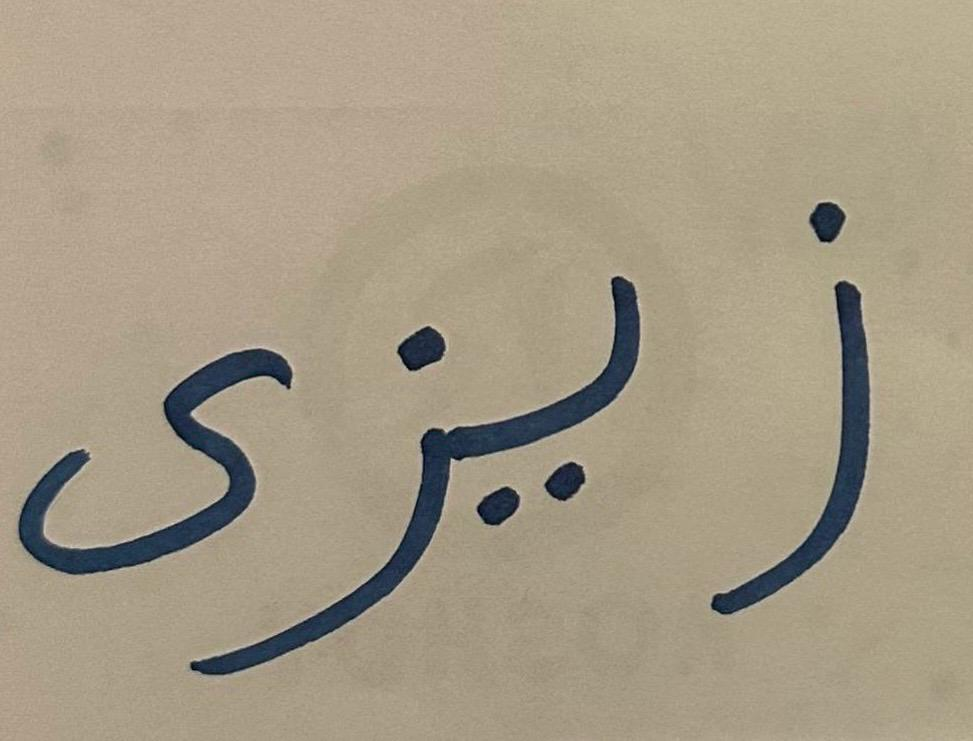hamza: (682, 165, 944, 659), (304, 320, 465, 695)
zah: (10, 308, 300, 586), (469, 229, 679, 593)
